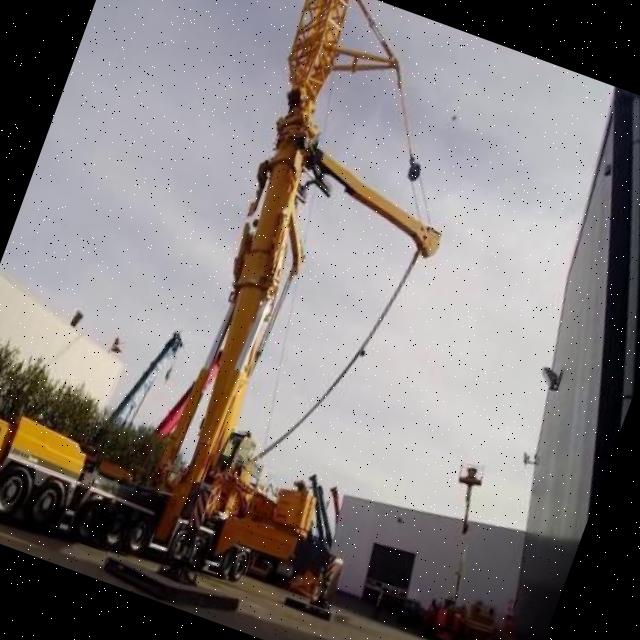Mobile Crane: (0, 0, 527, 637)
